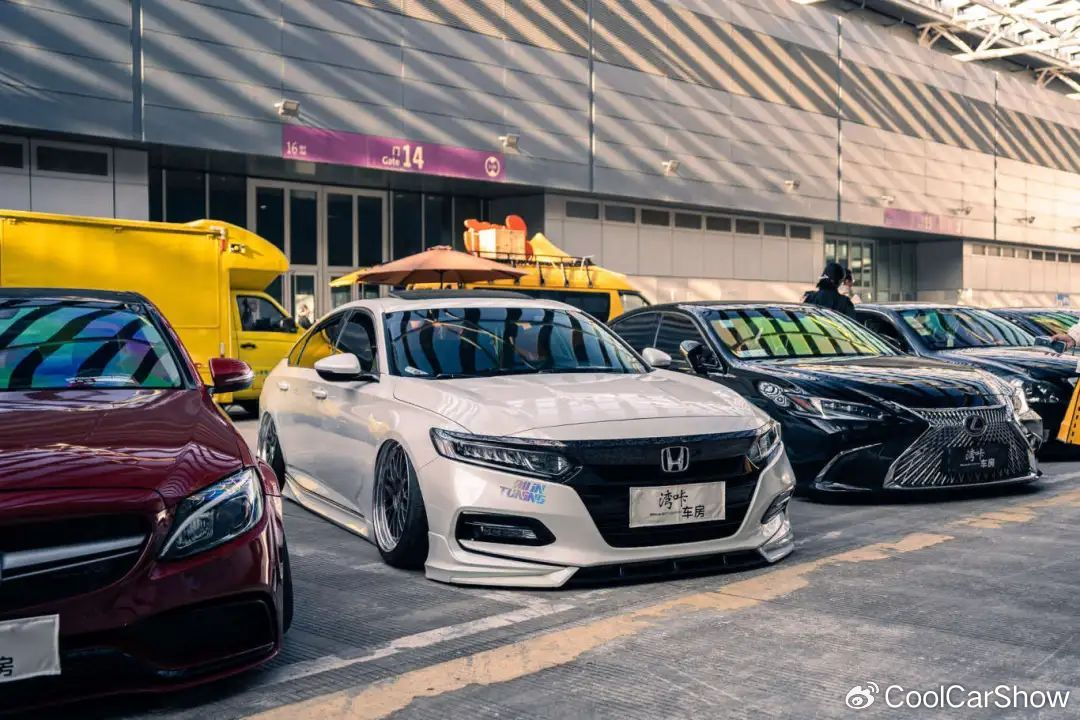other: (262, 277, 797, 576), (0, 286, 299, 685), (621, 290, 1042, 493)
